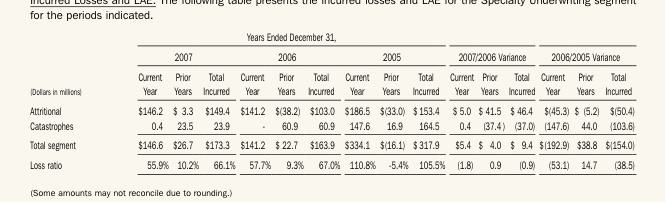table: (29, 29, 634, 170)
table column: (29, 29, 109, 170), (109, 29, 169, 170), (200, 29, 237, 170), (304, 29, 341, 170), (409, 29, 446, 170), (237, 29, 272, 170), (341, 29, 376, 170), (536, 29, 570, 170), (376, 29, 409, 170), (601, 29, 634, 170), (272, 29, 304, 170), (169, 29, 200, 170), (505, 29, 536, 170), (570, 29, 601, 170), (475, 29, 505, 170), (446, 29, 475, 170)
table column header: (29, 29, 634, 82)
table row: (29, 45, 634, 65), (29, 134, 634, 154), (29, 82, 634, 100), (29, 65, 634, 82), (29, 100, 634, 117), (29, 117, 634, 134), (29, 29, 634, 45), (29, 154, 634, 170)
table spanning cell: (109, 29, 446, 45), (536, 29, 634, 65), (446, 29, 536, 65), (109, 45, 237, 65), (341, 45, 446, 65), (237, 45, 341, 65)
